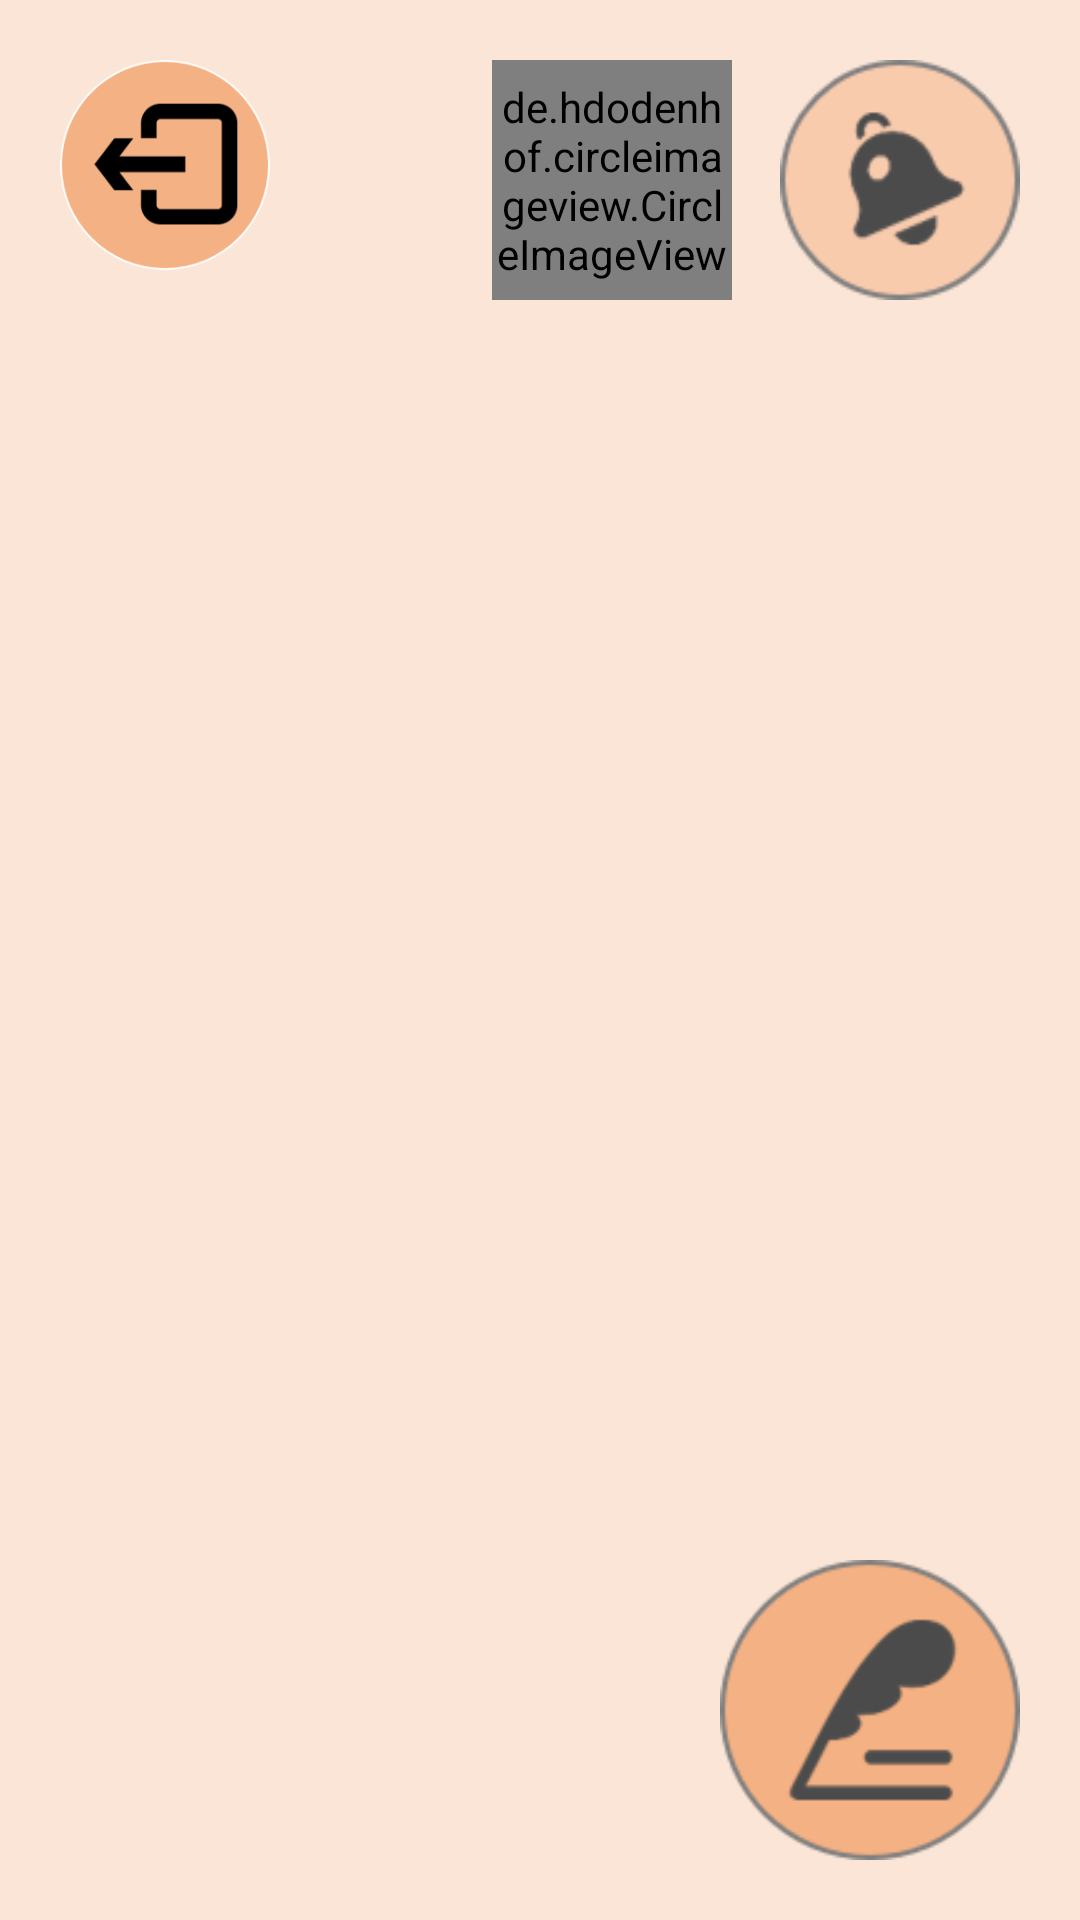

Where icons sit on this 1080 x 1920 app screen, as (x1, y1, x2, y2):
timeline notification none bt: (780, 60, 1020, 300)
timeline tweet bt: (720, 1560, 1020, 1860)
